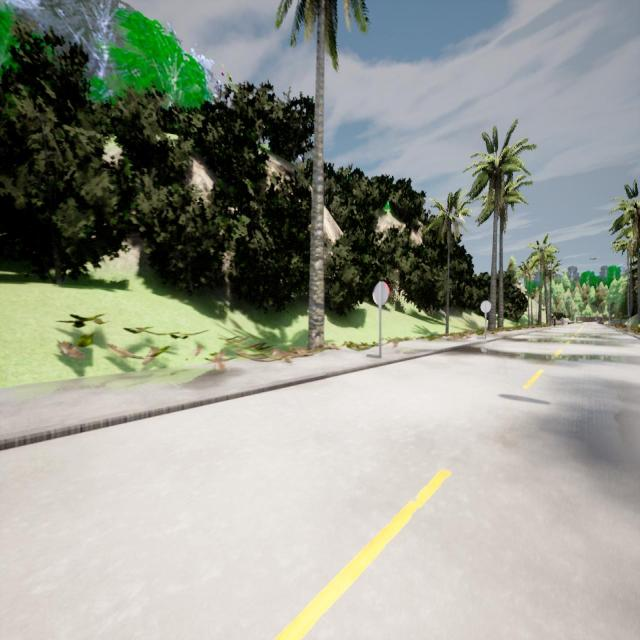Pedestrian: (552, 314, 557, 327)
Traffic_Signs: (372, 281, 390, 306), (480, 301, 492, 313)
